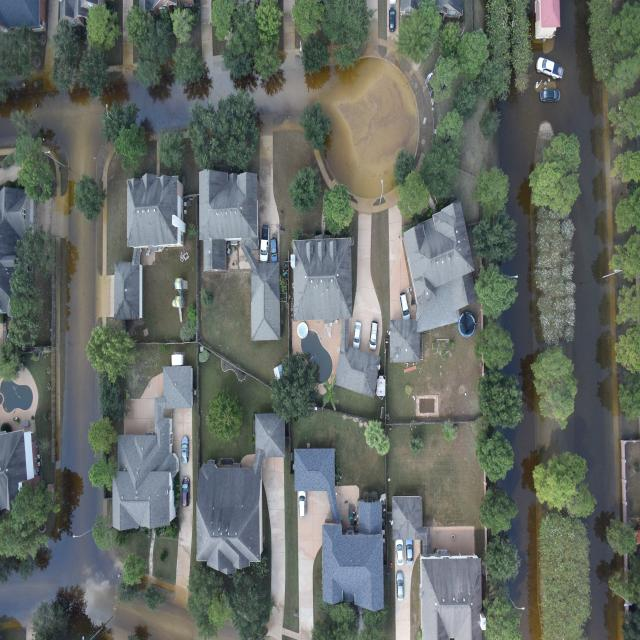fire: (499, 0, 640, 639), (0, 68, 194, 351), (0, 222, 121, 639), (250, 65, 311, 129), (106, 599, 197, 639), (197, 56, 235, 108)
